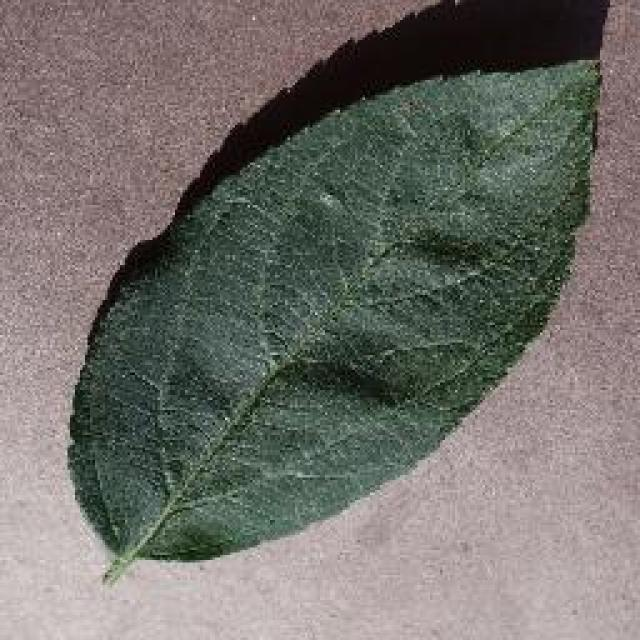apple scab disease: (62, 0, 610, 585)
